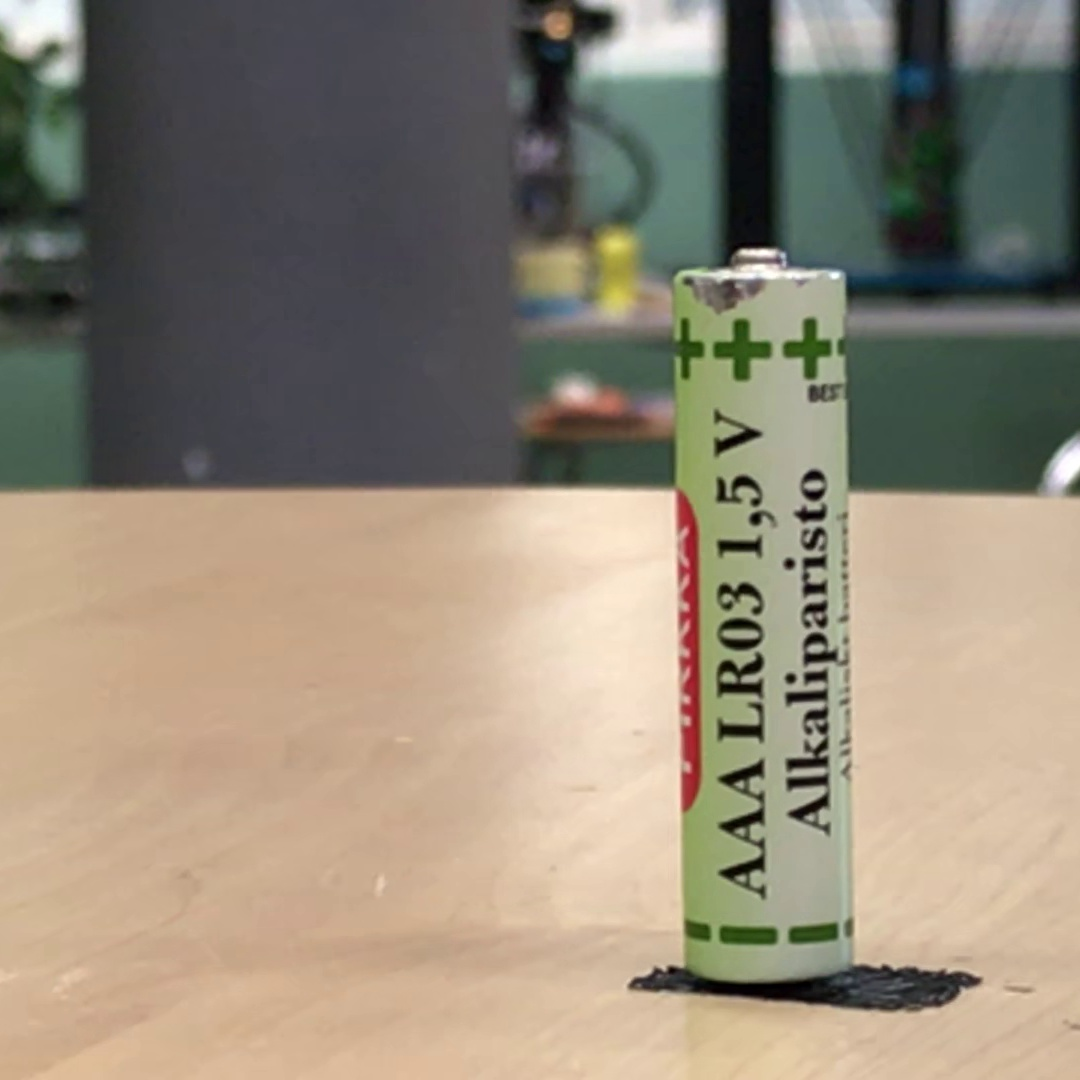keyword: (704, 399, 772, 568)
